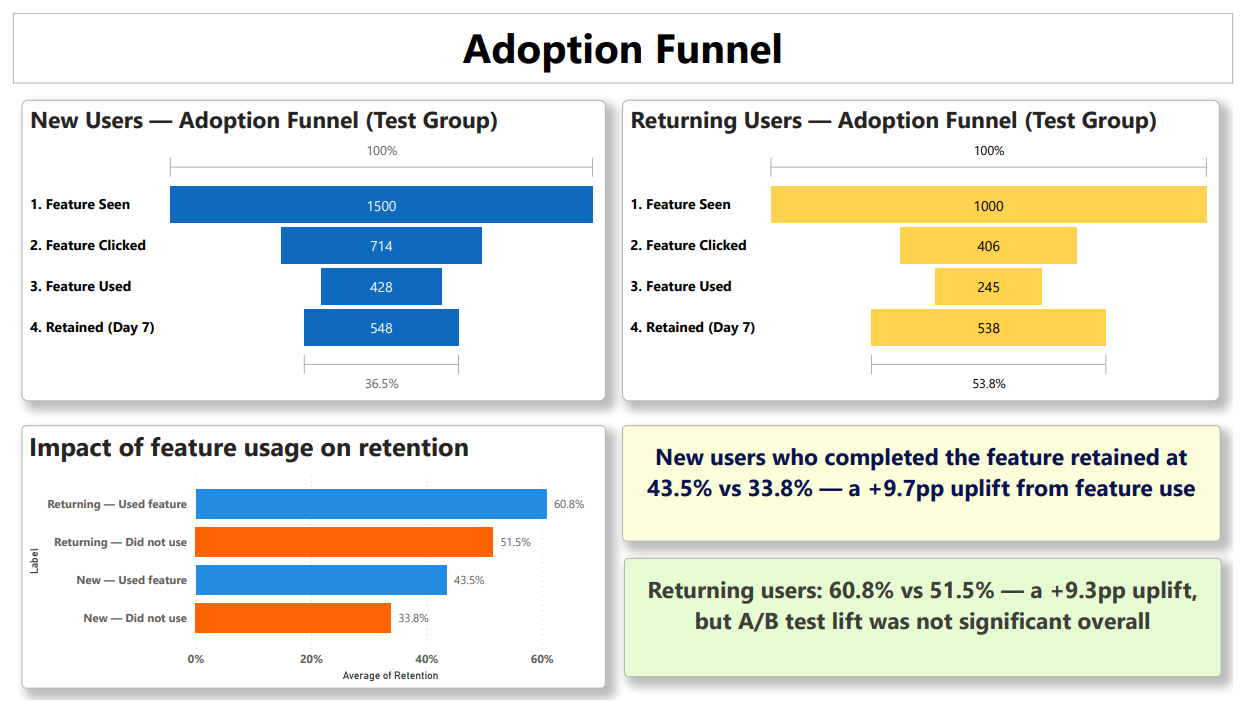

The dashboard page shown, as its layout file describes it:
{"tool":"powerbi","page":{"name":"Adoption Funnel","canvas":[1280,720],"ordinal":3},"visuals":[{"type":"funnel","title":"New Users — Adoption Funnel (Test Group)","fields":{"Category":["FunnelResults.stage"],"Y":["Avg(FunnelResults.users)"]},"box":[8.7,90.8,613.3,316],"z":0},{"type":"textbox","box":[0,0,1280.3,74.1],"z":1000},{"type":"funnel","title":"Returning Users — Adoption Funnel (Test Group)","fields":{"Category":["FunnelResults.stage"],"Y":["Avg(FunnelResults.users)"]},"box":[639.4,90.8,627,316],"z":2000},{"type":"clusteredBarChart","title":"Impact of feature usage on retention","fields":{"Category":["Feature Impact.Label"],"Y":["Avg(Feature Impact.Retention)"]},"box":[8.7,431.7,613.3,276.2],"z":3000},{"type":"textbox","box":[639.5,432.2,627.1,122.1],"z":4000},{"type":"textbox","box":[640.8,570.8,627.1,124.9],"z":5000}]}

Visuals, with their boxes in screenshot pixels (x1, y1, x2, y2), scaled from the page's 1280x720 canvas onto the 1243x707 screenshot:
"New Users — Adoption Funnel (Test Group)" funnel: {"x1": 8, "y1": 89, "x2": 604, "y2": 399}
textbox: {"x1": 0, "y1": 0, "x2": 1242, "y2": 73}
"Returning Users — Adoption Funnel (Test Group)" funnel: {"x1": 621, "y1": 89, "x2": 1230, "y2": 399}
"Impact of feature usage on retention" clusteredBarChart: {"x1": 8, "y1": 424, "x2": 604, "y2": 695}
textbox: {"x1": 621, "y1": 424, "x2": 1230, "y2": 544}
textbox: {"x1": 622, "y1": 560, "x2": 1231, "y2": 683}
